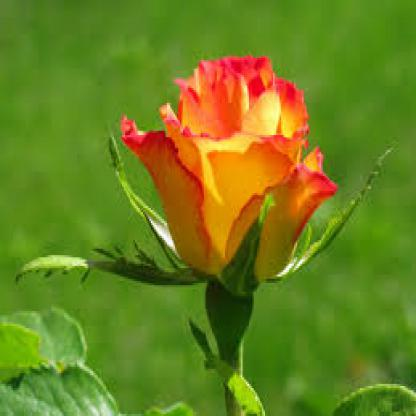Rose-Mawar: (120, 53, 343, 293)
